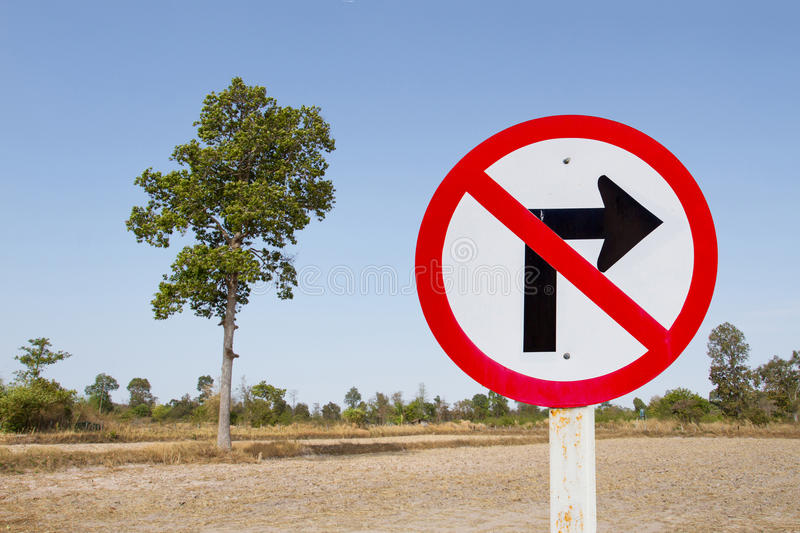No_right_turn: (413, 115, 720, 405)
